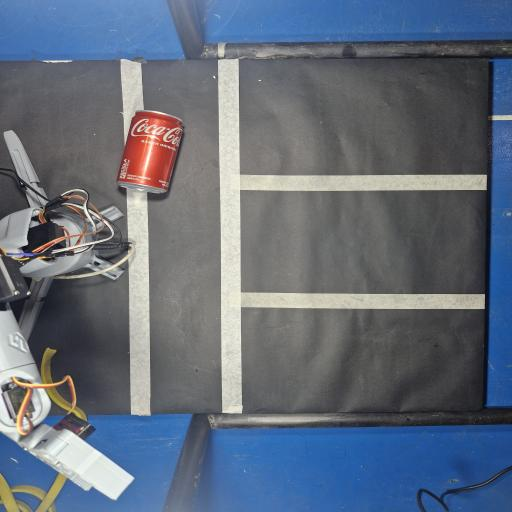lata: (117, 110, 183, 193)
